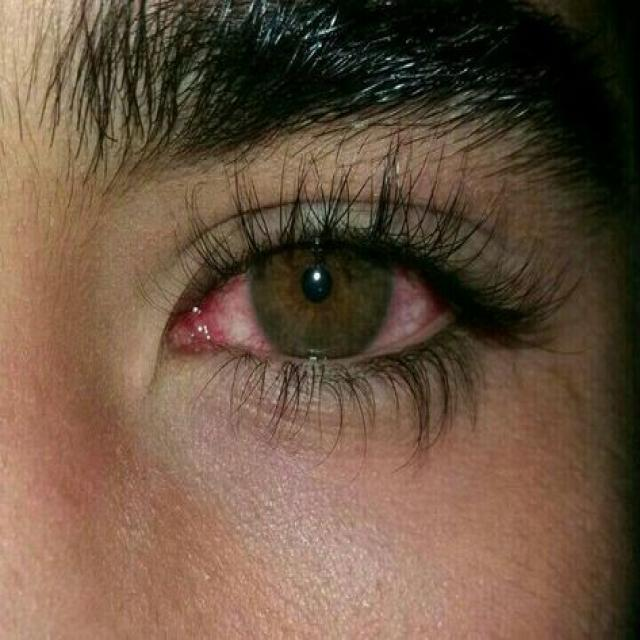eye: (96, 156, 564, 462)
gaze: (243, 226, 403, 369)
